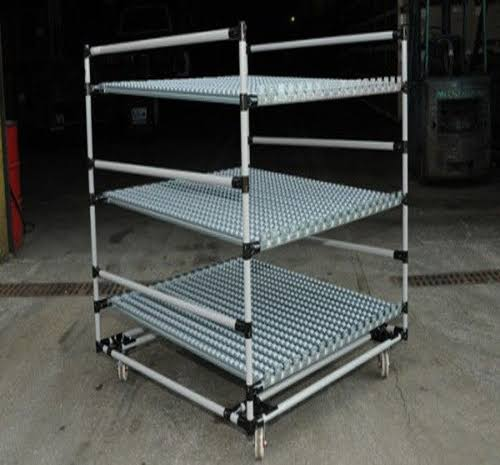Carts: (83, 22, 412, 460)
